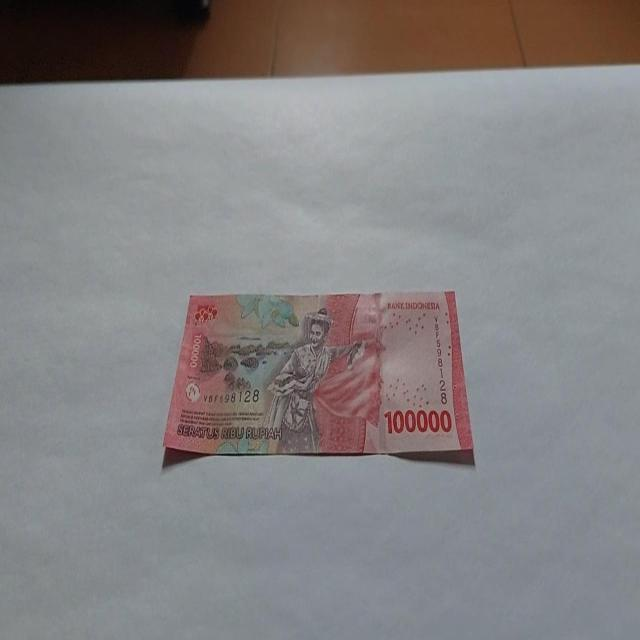Kertas: (161, 288, 475, 467), (383, 406, 452, 436)
